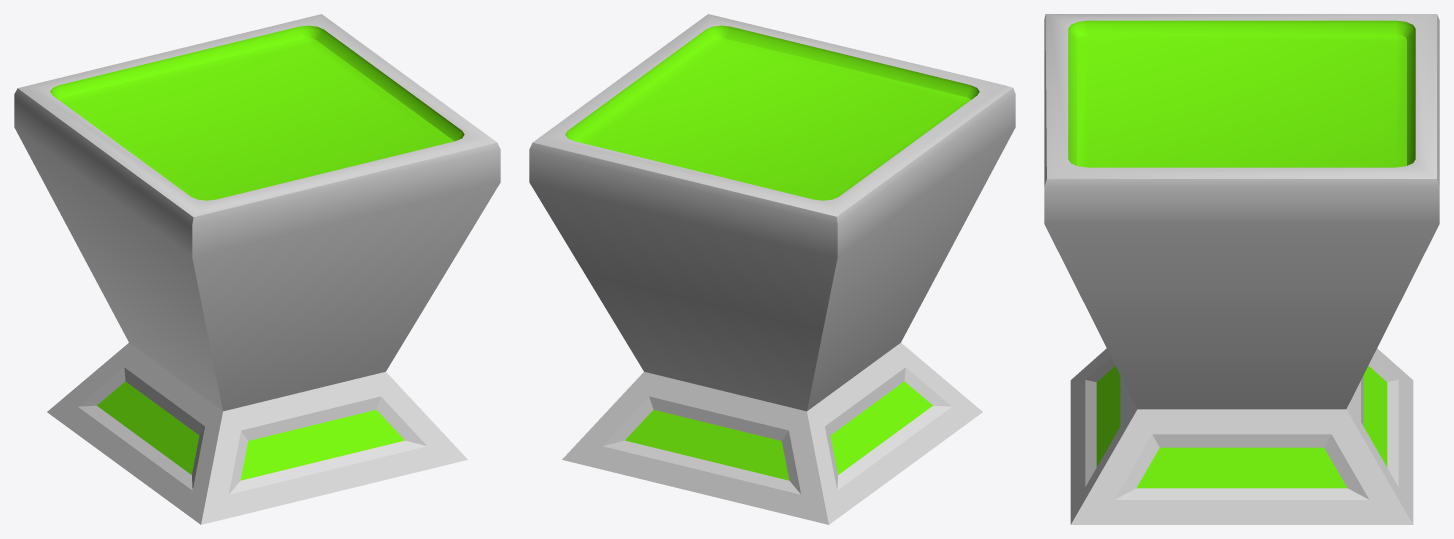
Rendered from Pedestal.FBX.
The picture shows the model from 3 angles, left to right: view 1: azimuth 30°, elevation 25°; view 2: azimuth 150°, elevation 25°; view 3: azimuth 270°, elevation 25°; orthographic projection. The views are drawn at different scales.
Visible parts, largest first — view 1: Box001; view 2: Box001; view 3: Box001.
Part boxes in pixels (bbox=[...]): Box001: bbox=[14, 14, 500, 524]; Box001: bbox=[529, 14, 1015, 524]; Box001: bbox=[1044, 14, 1439, 524].
Size of the model in its own units: 36 by 36 by 36.
